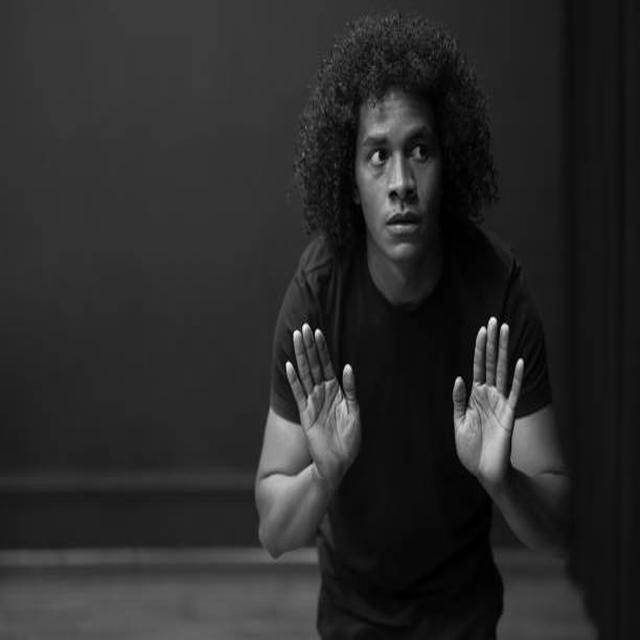Fear: (356, 98, 444, 262)
